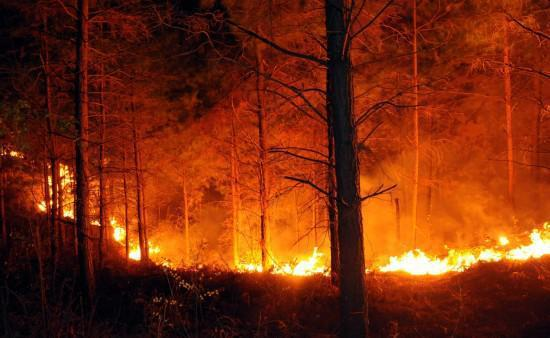fire: (29, 154, 158, 266), (369, 238, 540, 281), (235, 239, 330, 278)
